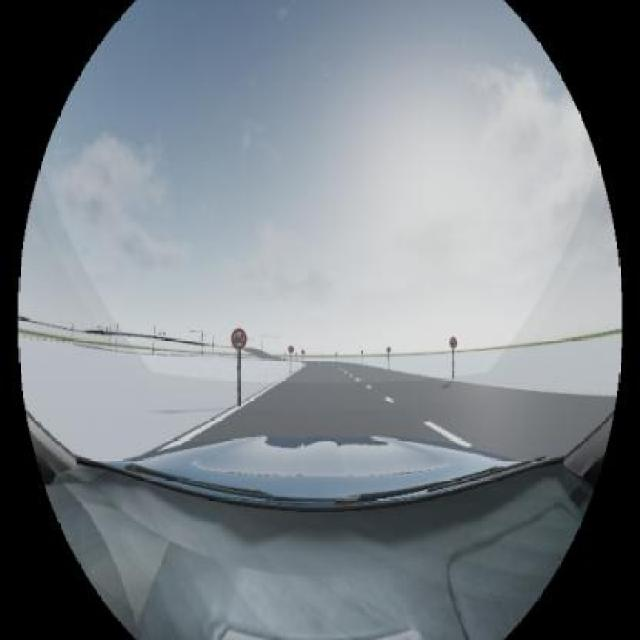forb_speed_over_60: (231, 328, 247, 350)
